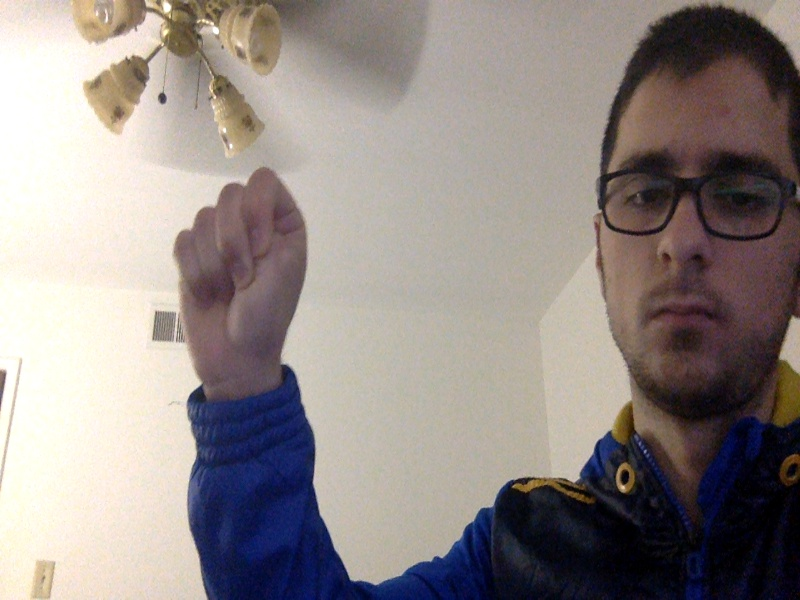0-hand: (178, 168, 306, 390)
